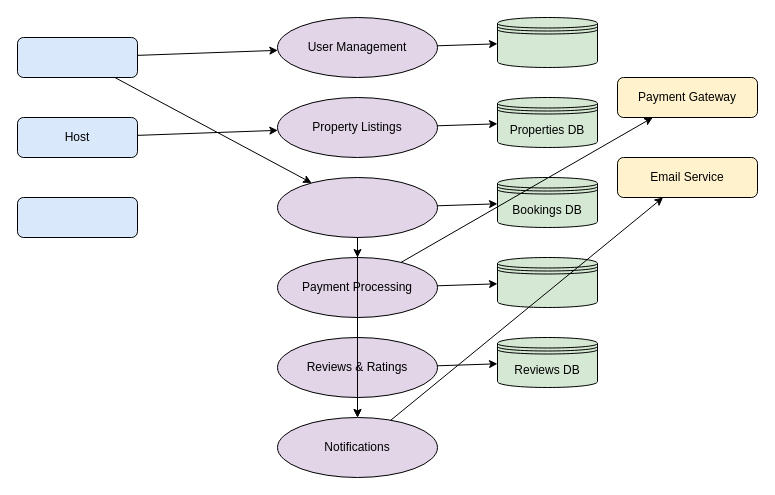
Image size: 775x495. Some labels were removed from this diagram. Here are the shapes that lost their labels. From the top down, the centre of each, then its label:
At point (77, 57): "Guest".
At point (547, 42): "Users DB".
At point (77, 217): "Admin".
At point (357, 207): "Booking System".
At point (547, 282): "Payments DB".
